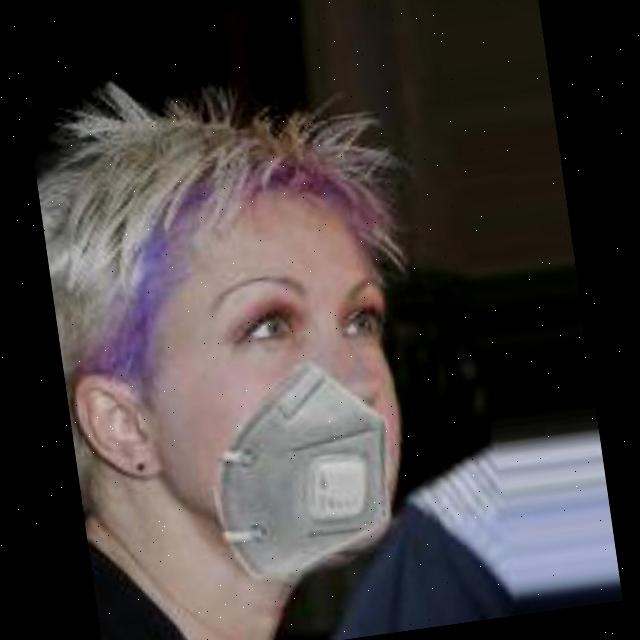suspicion: (90, 152, 457, 590)
